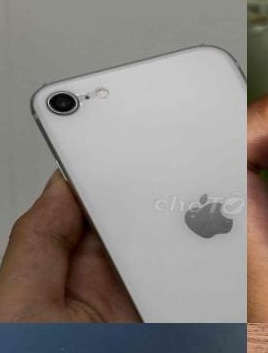scratch: (175, 191, 240, 240), (44, 86, 82, 116), (41, 330, 76, 353), (0, 344, 9, 353)
